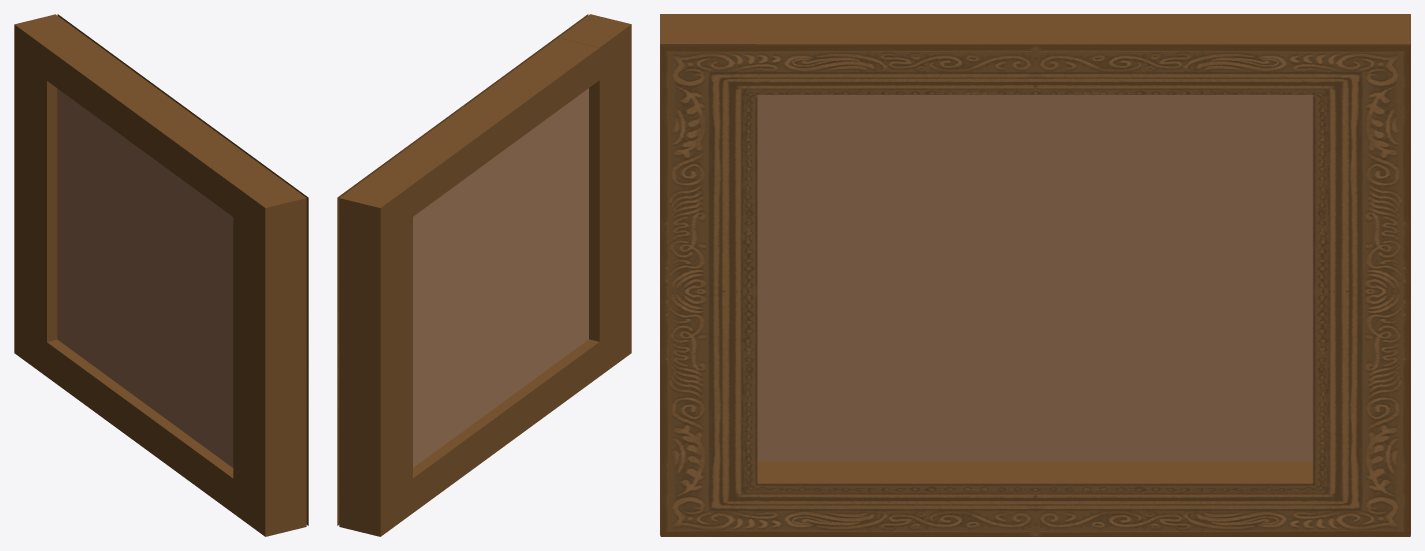
Rendered from Kein_Bild_2.glb.
The picture shows the model from 3 angles, left to right: view 1: azimuth 30°, elevation 25°; view 2: azimuth 150°, elevation 25°; view 3: azimuth 270°, elevation 25°; orthographic projection. The views are drawn at different scales.
Parts seen in each view (by area): view 1: Bilderrahmen_Kein_Bild.004; view 2: Bilderrahmen_Kein_Bild.004; view 3: Bilderrahmen_Kein_Bild.004.
Part boxes in pixels (left/top/right/bottom): Bilderrahmen_Kein_Bild.004: left=14, top=14, right=308, bottom=536; Bilderrahmen_Kein_Bild.004: left=337, top=14, right=631, bottom=536; Bilderrahmen_Kein_Bild.004: left=660, top=14, right=1410, bottom=536.
Size of the model in its own units: 0.2521 by 1.83 by 2.53.
Materials: 3 (1 with a texture image).
